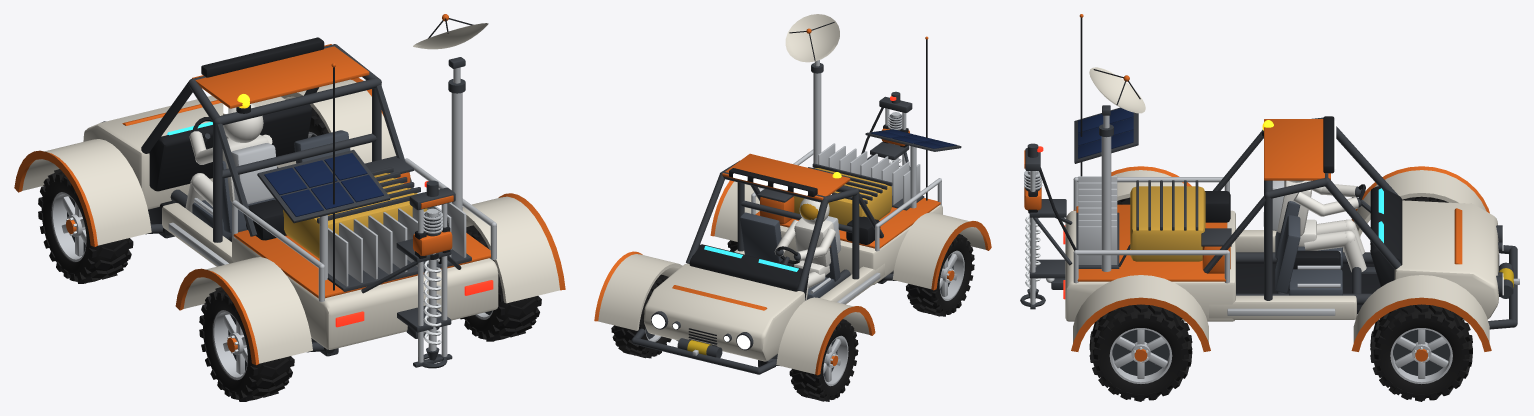
The model's file is rover.glb.
The picture shows the model from 3 angles, left to right: view 1: azimuth 30°, elevation 25°; view 2: azimuth 150°, elevation 25°; view 3: azimuth 270°, elevation 25°; orthographic projection. The views are drawn at different scales.
Parts seen in each view (by area): view 1: Chassis, Wheel_FL, Wheel_RL, Driver, DrillRig, Wheel_RR, DrillBit, Dish, Drill; view 2: Chassis, Wheel_RL, Wheel_FL, Driver, Dish, DrillRig, Wheel_FR, Drill; view 3: Chassis, Wheel_RR, Wheel_FR, Driver, DrillRig, Dish, Drill, DrillBit.
Boxes of the visible parts, box(x1,y1,x2,y2) form: Chassis: box(14, 37, 565, 365); Wheel_FL: box(38, 169, 133, 283); Wheel_RL: box(199, 287, 294, 401); Driver: box(185, 103, 276, 212); DrillRig: box(361, 180, 461, 368); Wheel_RR: box(460, 225, 541, 341); DrillBit: box(423, 253, 441, 360); Dish: box(413, 14, 488, 83); Drill: box(413, 208, 452, 258); Chassis: box(594, 36, 991, 375); Wheel_RL: box(906, 234, 974, 316); Wheel_FL: box(789, 319, 858, 401); Driver: box(774, 194, 840, 300); Dish: box(785, 14, 839, 66); DrillRig: box(861, 91, 912, 170); Wheel_FR: box(611, 274, 671, 358); Drill: box(881, 112, 909, 147); Chassis: box(1046, 14, 1519, 351); Wheel_RR: box(1089, 304, 1192, 401); Wheel_FR: box(1370, 304, 1472, 401); Driver: box(1263, 180, 1376, 273); DrillRig: box(1020, 143, 1076, 309); Dish: box(1089, 67, 1145, 128); Drill: box(1024, 171, 1042, 213); DrillBit: box(1025, 210, 1040, 298).
Size of the model in its own units: 2.88 by 3.05 by 4.63.
